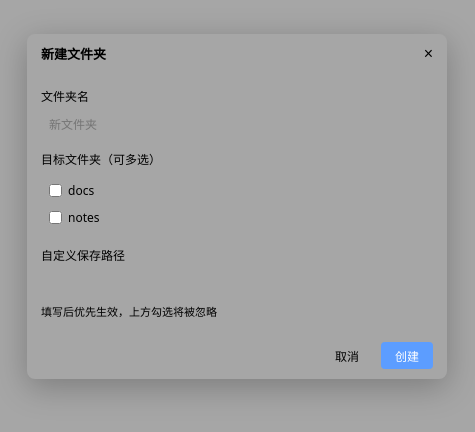
Test case: v0.8.0 WP2 NewFolderDialog 组件 › 名称含非法字符时不提交
Type "a/b" into the field with placeholder "新文件夹".
click(237, 125); type("a/b")  # box [41,112,433,138]
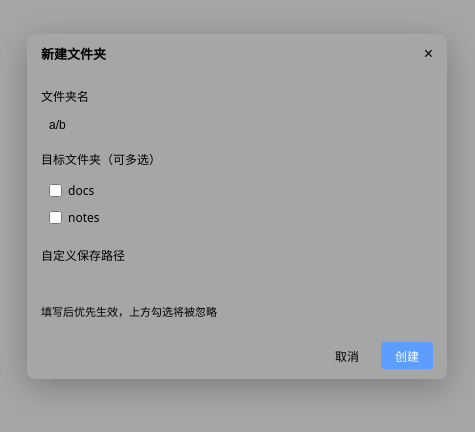
Click the button "创建".
click(407, 356)  # box [381,343,433,370]
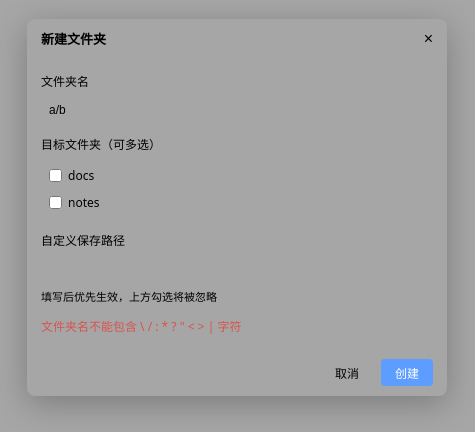
Now the text "文件夹名不能包含 \\ / : * ? \" < > | 字符" is shown, box [41,318,241,335]
